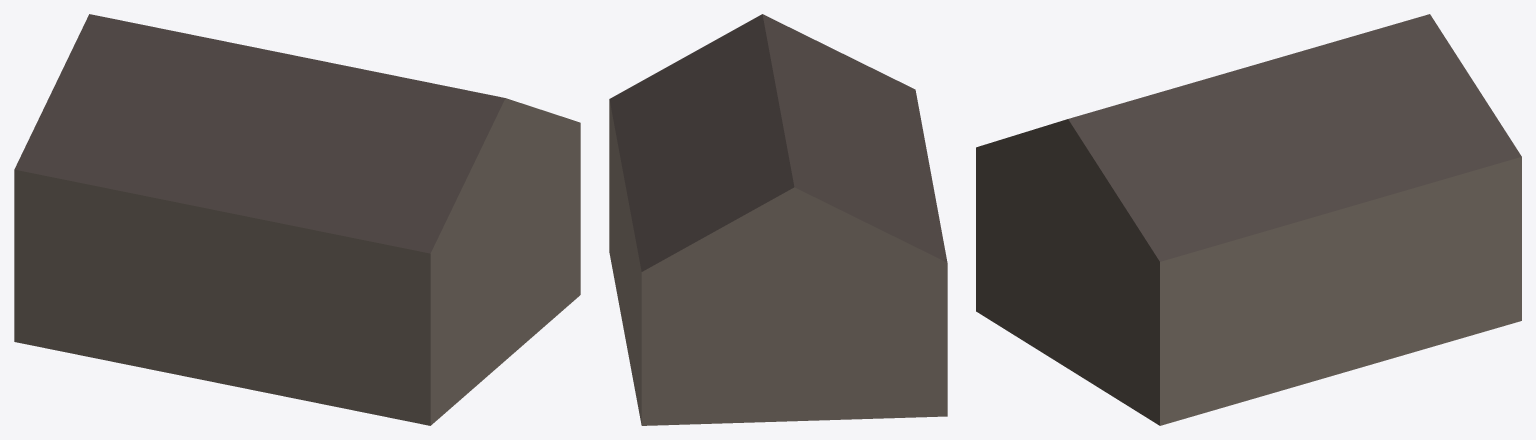
The picture shows the model from 3 angles, left to right: view 1: azimuth 30°, elevation 25°; view 2: azimuth 150°, elevation 25°; view 3: azimuth 270°, elevation 25°; orthographic projection. The views are drawn at different scales.
Visible parts, largest first — view 1: HP-w369237991; view 2: HP-w369237991; view 3: HP-w369237991.
Part boxes in pixels (box(x1,y1,x2,y2)): HP-w369237991: box(14, 14, 580, 425); HP-w369237991: box(609, 14, 947, 425); HP-w369237991: box(976, 14, 1521, 425).
Size of the model in its own units: 17.22 by 9.13 by 18.09.
